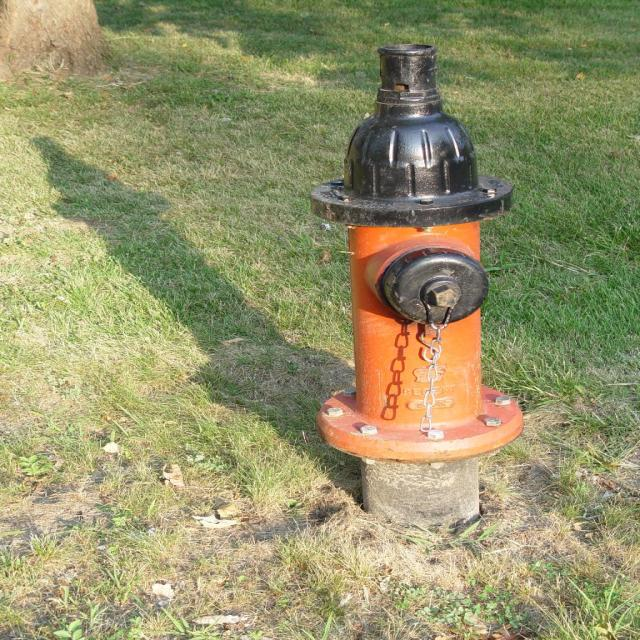fire_hydrant: (311, 46, 526, 528)
